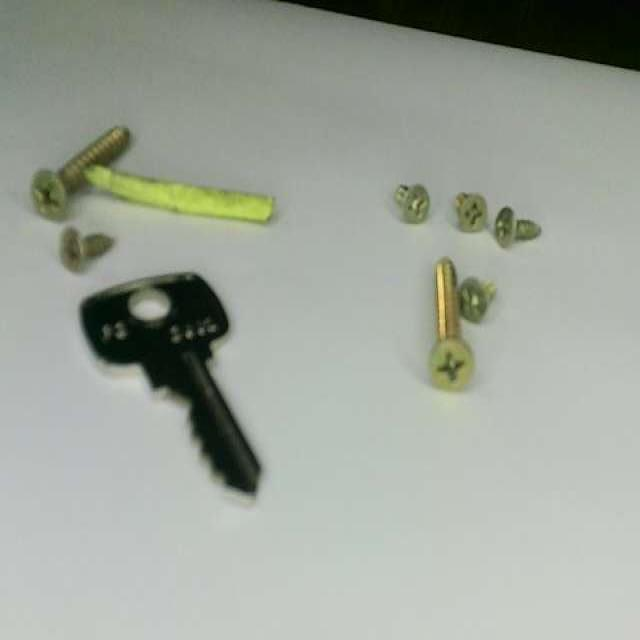Parafuso: (34, 128, 132, 220), (429, 255, 471, 386), (63, 229, 116, 271), (497, 208, 543, 249), (459, 278, 495, 322), (455, 196, 488, 234), (399, 186, 432, 222)
